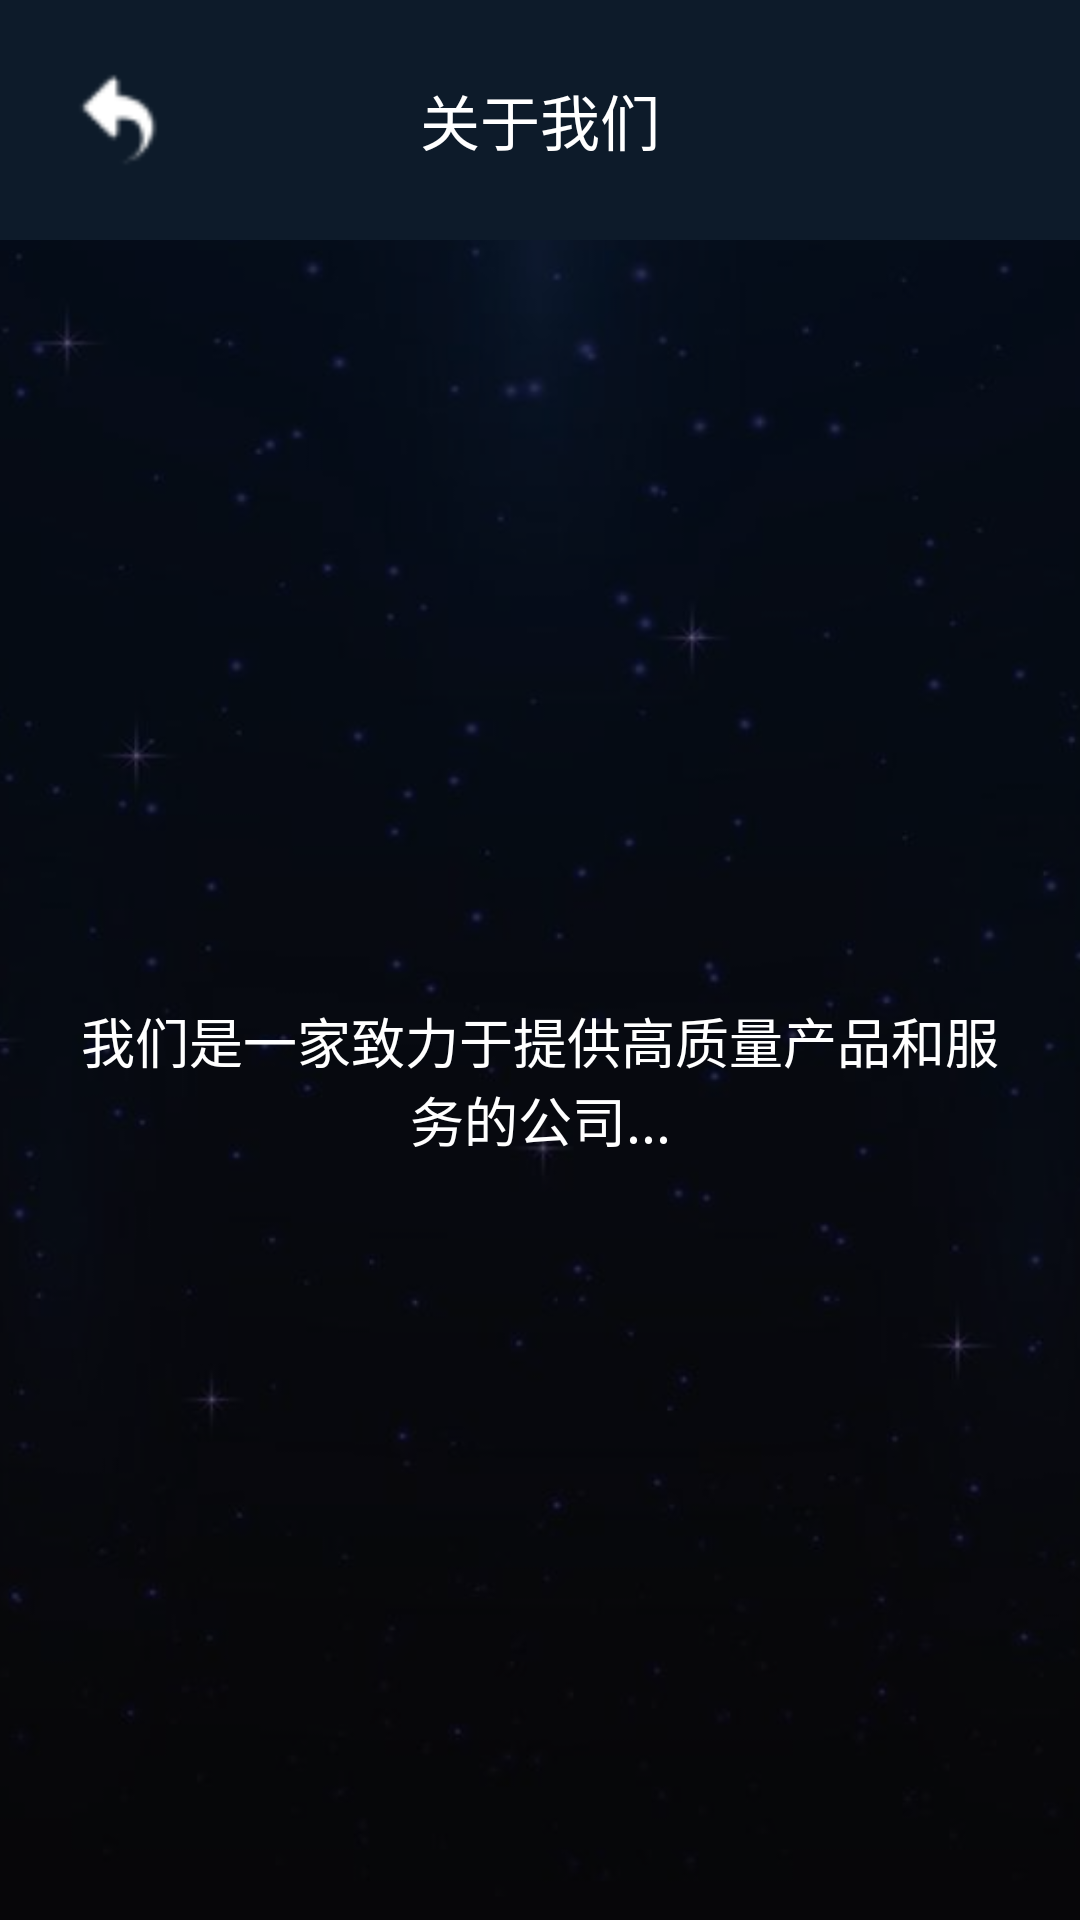

Named icons in this screenshot (1080×1920) and their centers, (x=x, y=y):
返回: (x=119, y=117)
